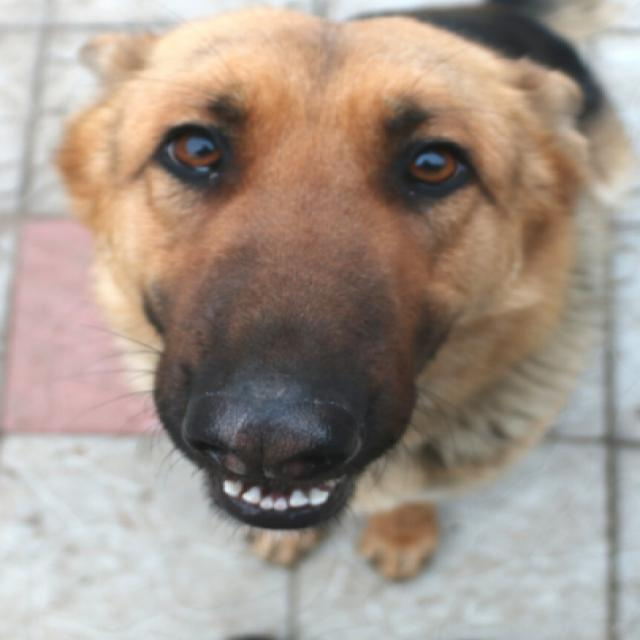eye: (152, 118, 235, 185), (396, 138, 472, 191)
